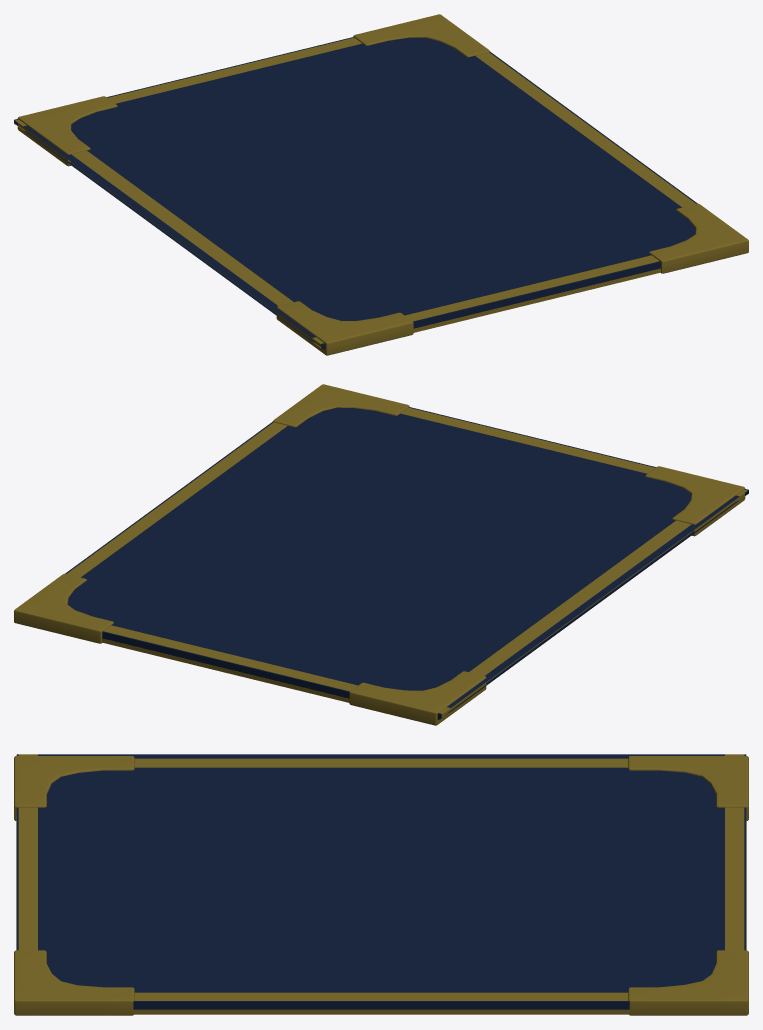
File: SpellbookNoUV_BackCover.fbx
3 views of the same model, one above another, from view 1: azimuth 30°, elevation 25°; view 2: azimuth 150°, elevation 25°; view 3: azimuth 270°, elevation 25° (orthographic). The views are drawn at different scales.
Parts seen in each view (by area): view 1: spellbook_back; view 2: spellbook_back; view 3: spellbook_back.
Boxes of the visible parts, left/top/right/bottom form: spellbook_back: left=14, top=14, right=748, bottom=355; spellbook_back: left=14, top=384, right=748, bottom=725; spellbook_back: left=14, top=754, right=748, bottom=1015.
Size of the model in its own units: 27.33 by 1.07 by 34.27.
